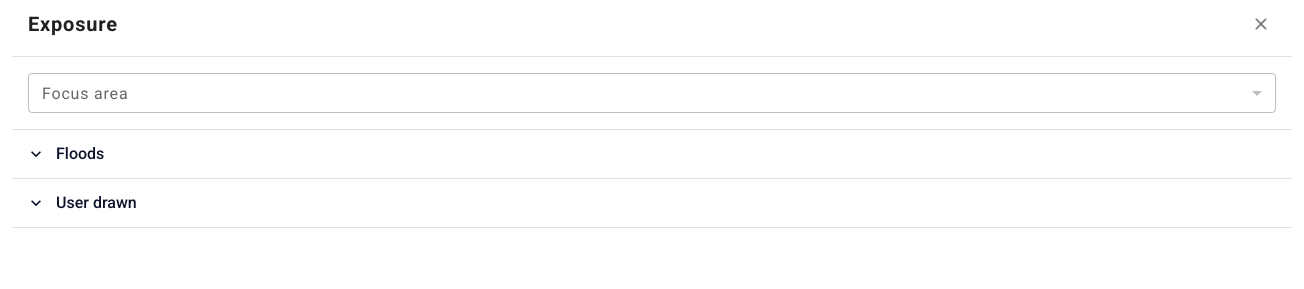
Scenario: ExposureView › Spatial Relation Badges › displays "Not in area" badge for elsewhere layers
Expected: the text "Floods" is shown, left=56, top=144, right=104, bottom=163
Click the button "Floods". click: (80, 154)
box: left=12, top=130, right=1292, bottom=178
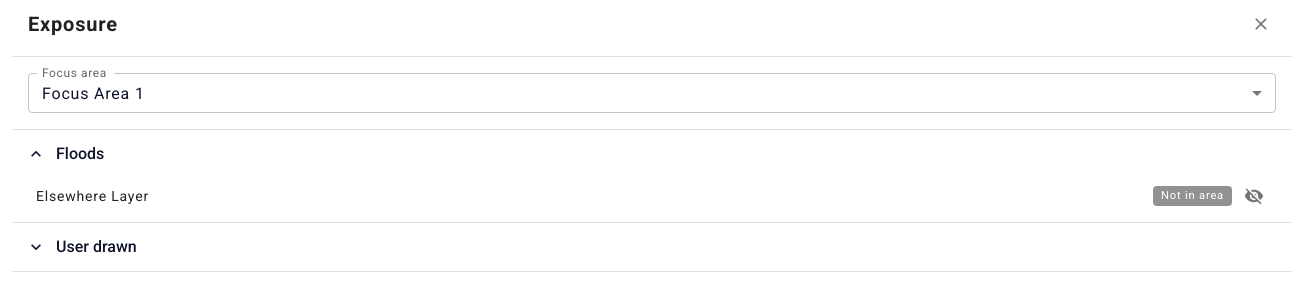
Result: the text "Elsewhere Layer" is shown at left=36, top=188, right=149, bottom=204
Result: the text "Not in area" is shown at left=1153, top=186, right=1232, bottom=206
